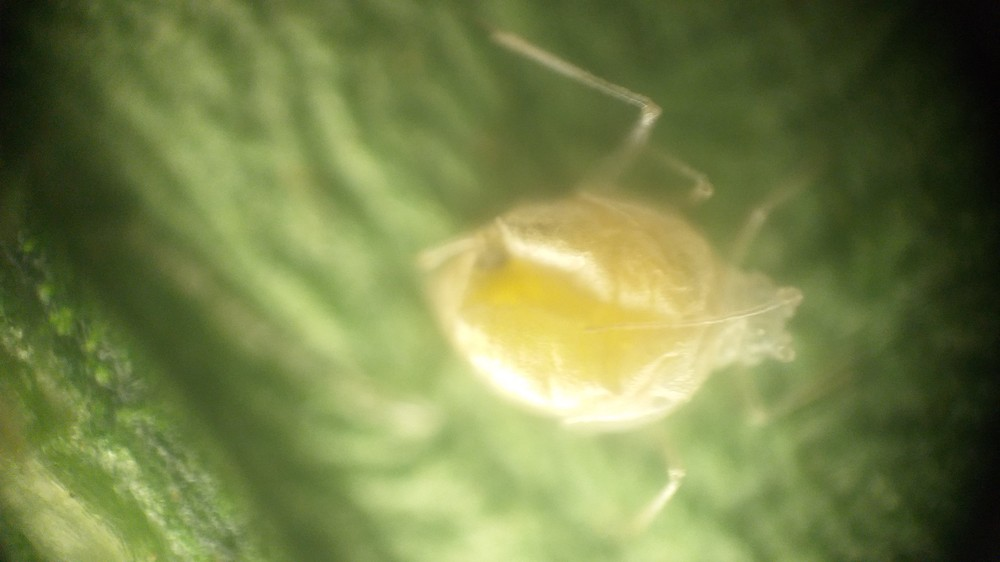Pulgon: (369, 27, 902, 532)
